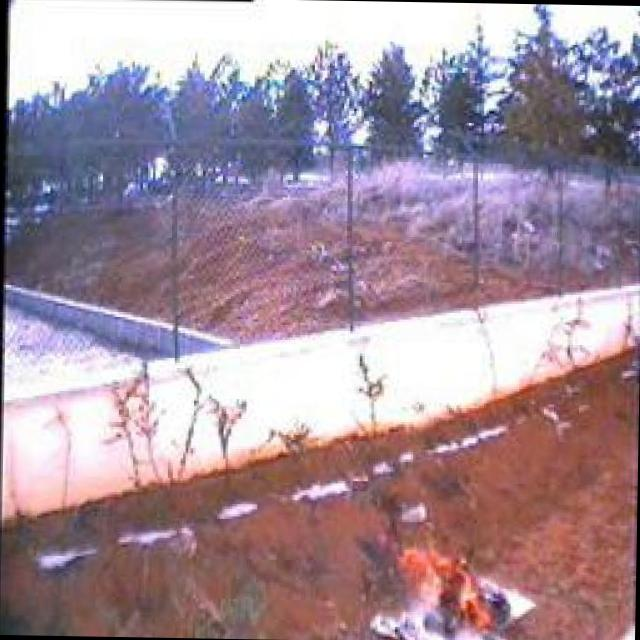Fire: (374, 532, 506, 640)
